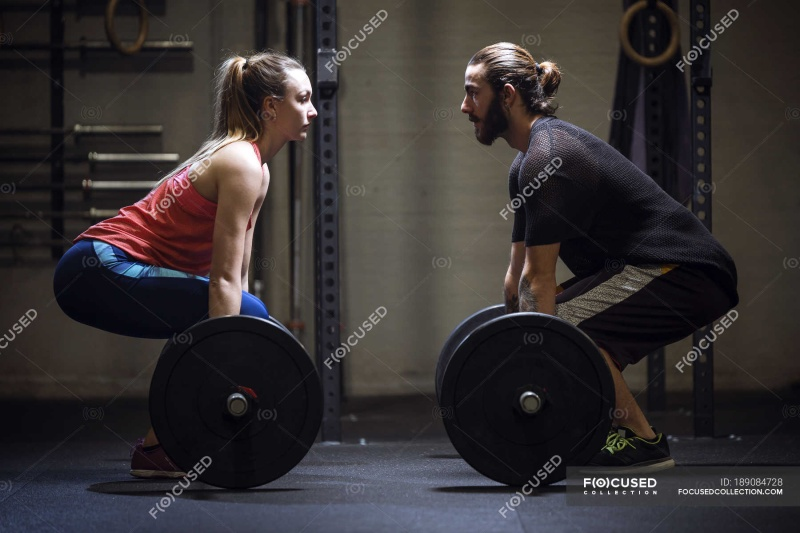barbell: (435, 310, 625, 493), (146, 315, 330, 496)
